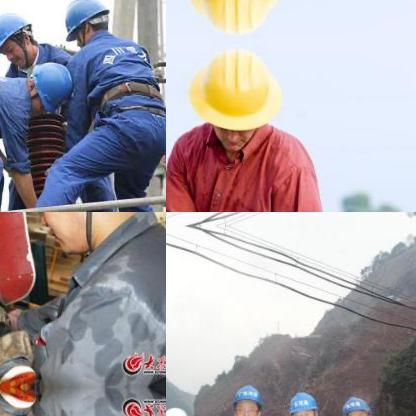Helmet: (185, 46, 289, 156), (15, 212, 139, 254), (184, 0, 290, 35), (22, 57, 76, 117), (55, 0, 112, 49), (0, 5, 41, 70), (229, 379, 266, 415), (282, 385, 324, 415), (339, 390, 374, 415), (166, 401, 193, 415)
